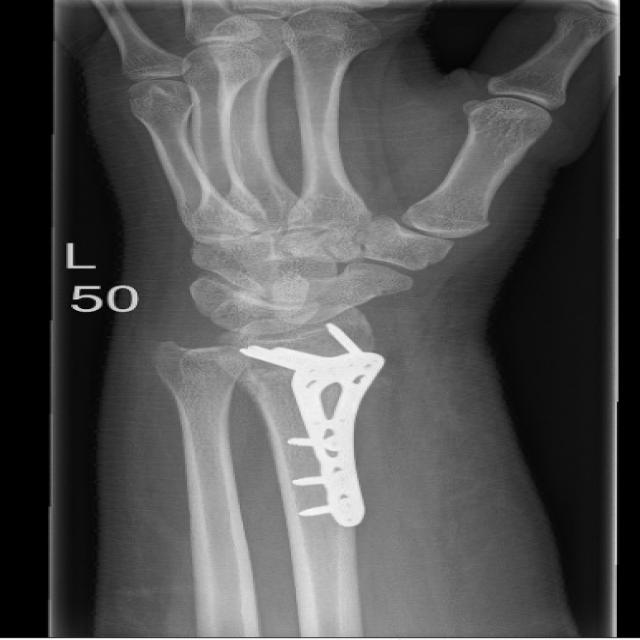x-ray: (226, 310, 422, 548)
